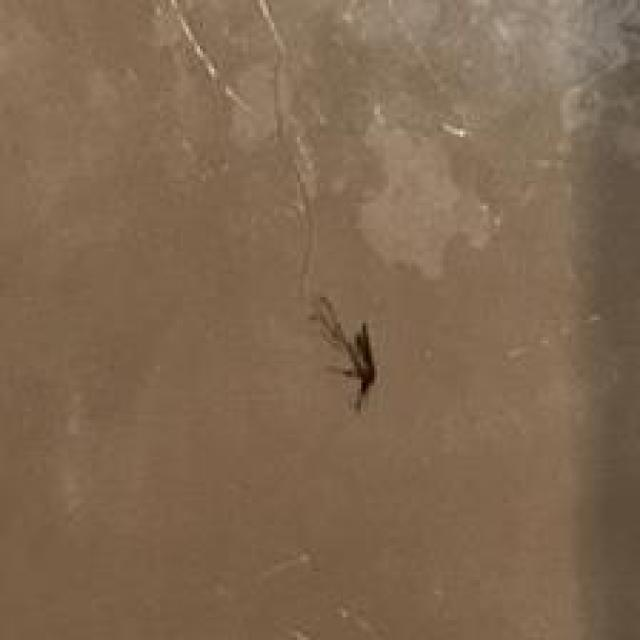Culex: (307, 293, 379, 413)
